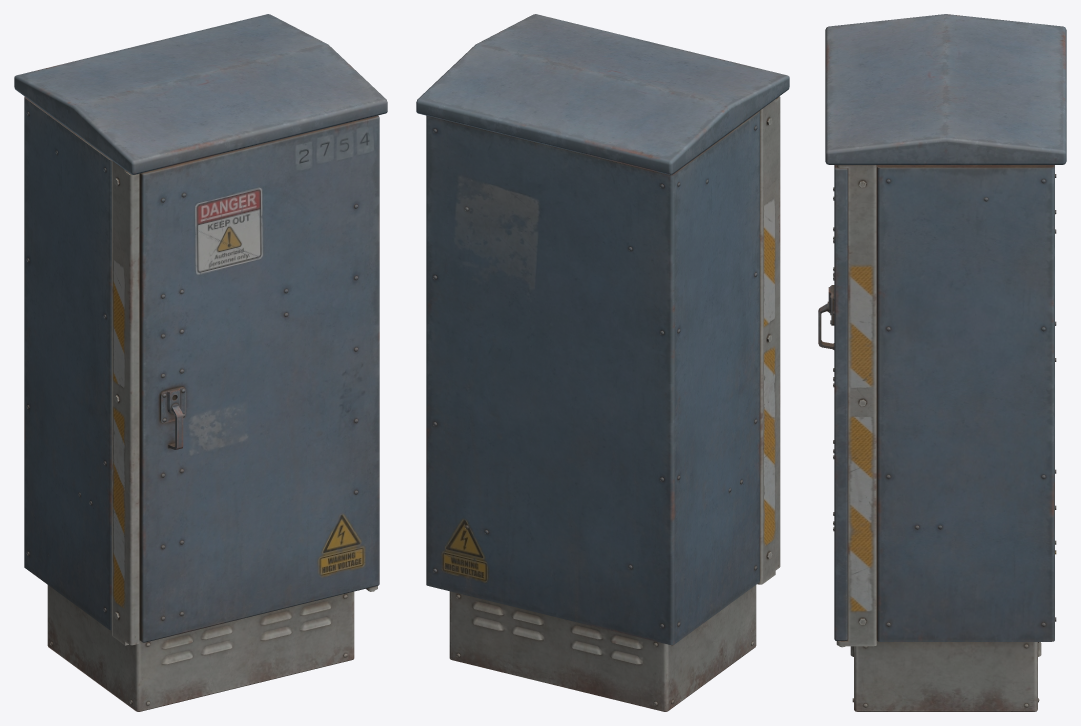
The picture shows the model from 3 angles, left to right: view 1: azimuth 30°, elevation 25°; view 2: azimuth 150°, elevation 25°; view 3: azimuth 270°, elevation 25°; orthographic projection.
Visible parts, largest first — view 1: utility_box_01_box; view 2: utility_box_01_box; view 3: utility_box_01_box.
Boxes of the visible parts, x1,y1,x2,y2 form: utility_box_01_box: [14, 14, 387, 711]; utility_box_01_box: [416, 14, 789, 711]; utility_box_01_box: [818, 14, 1066, 711].
Bounding box in the file's own units: 0.52 × 1.12 × 0.432.
Materials: 1 (1 with a texture image).
